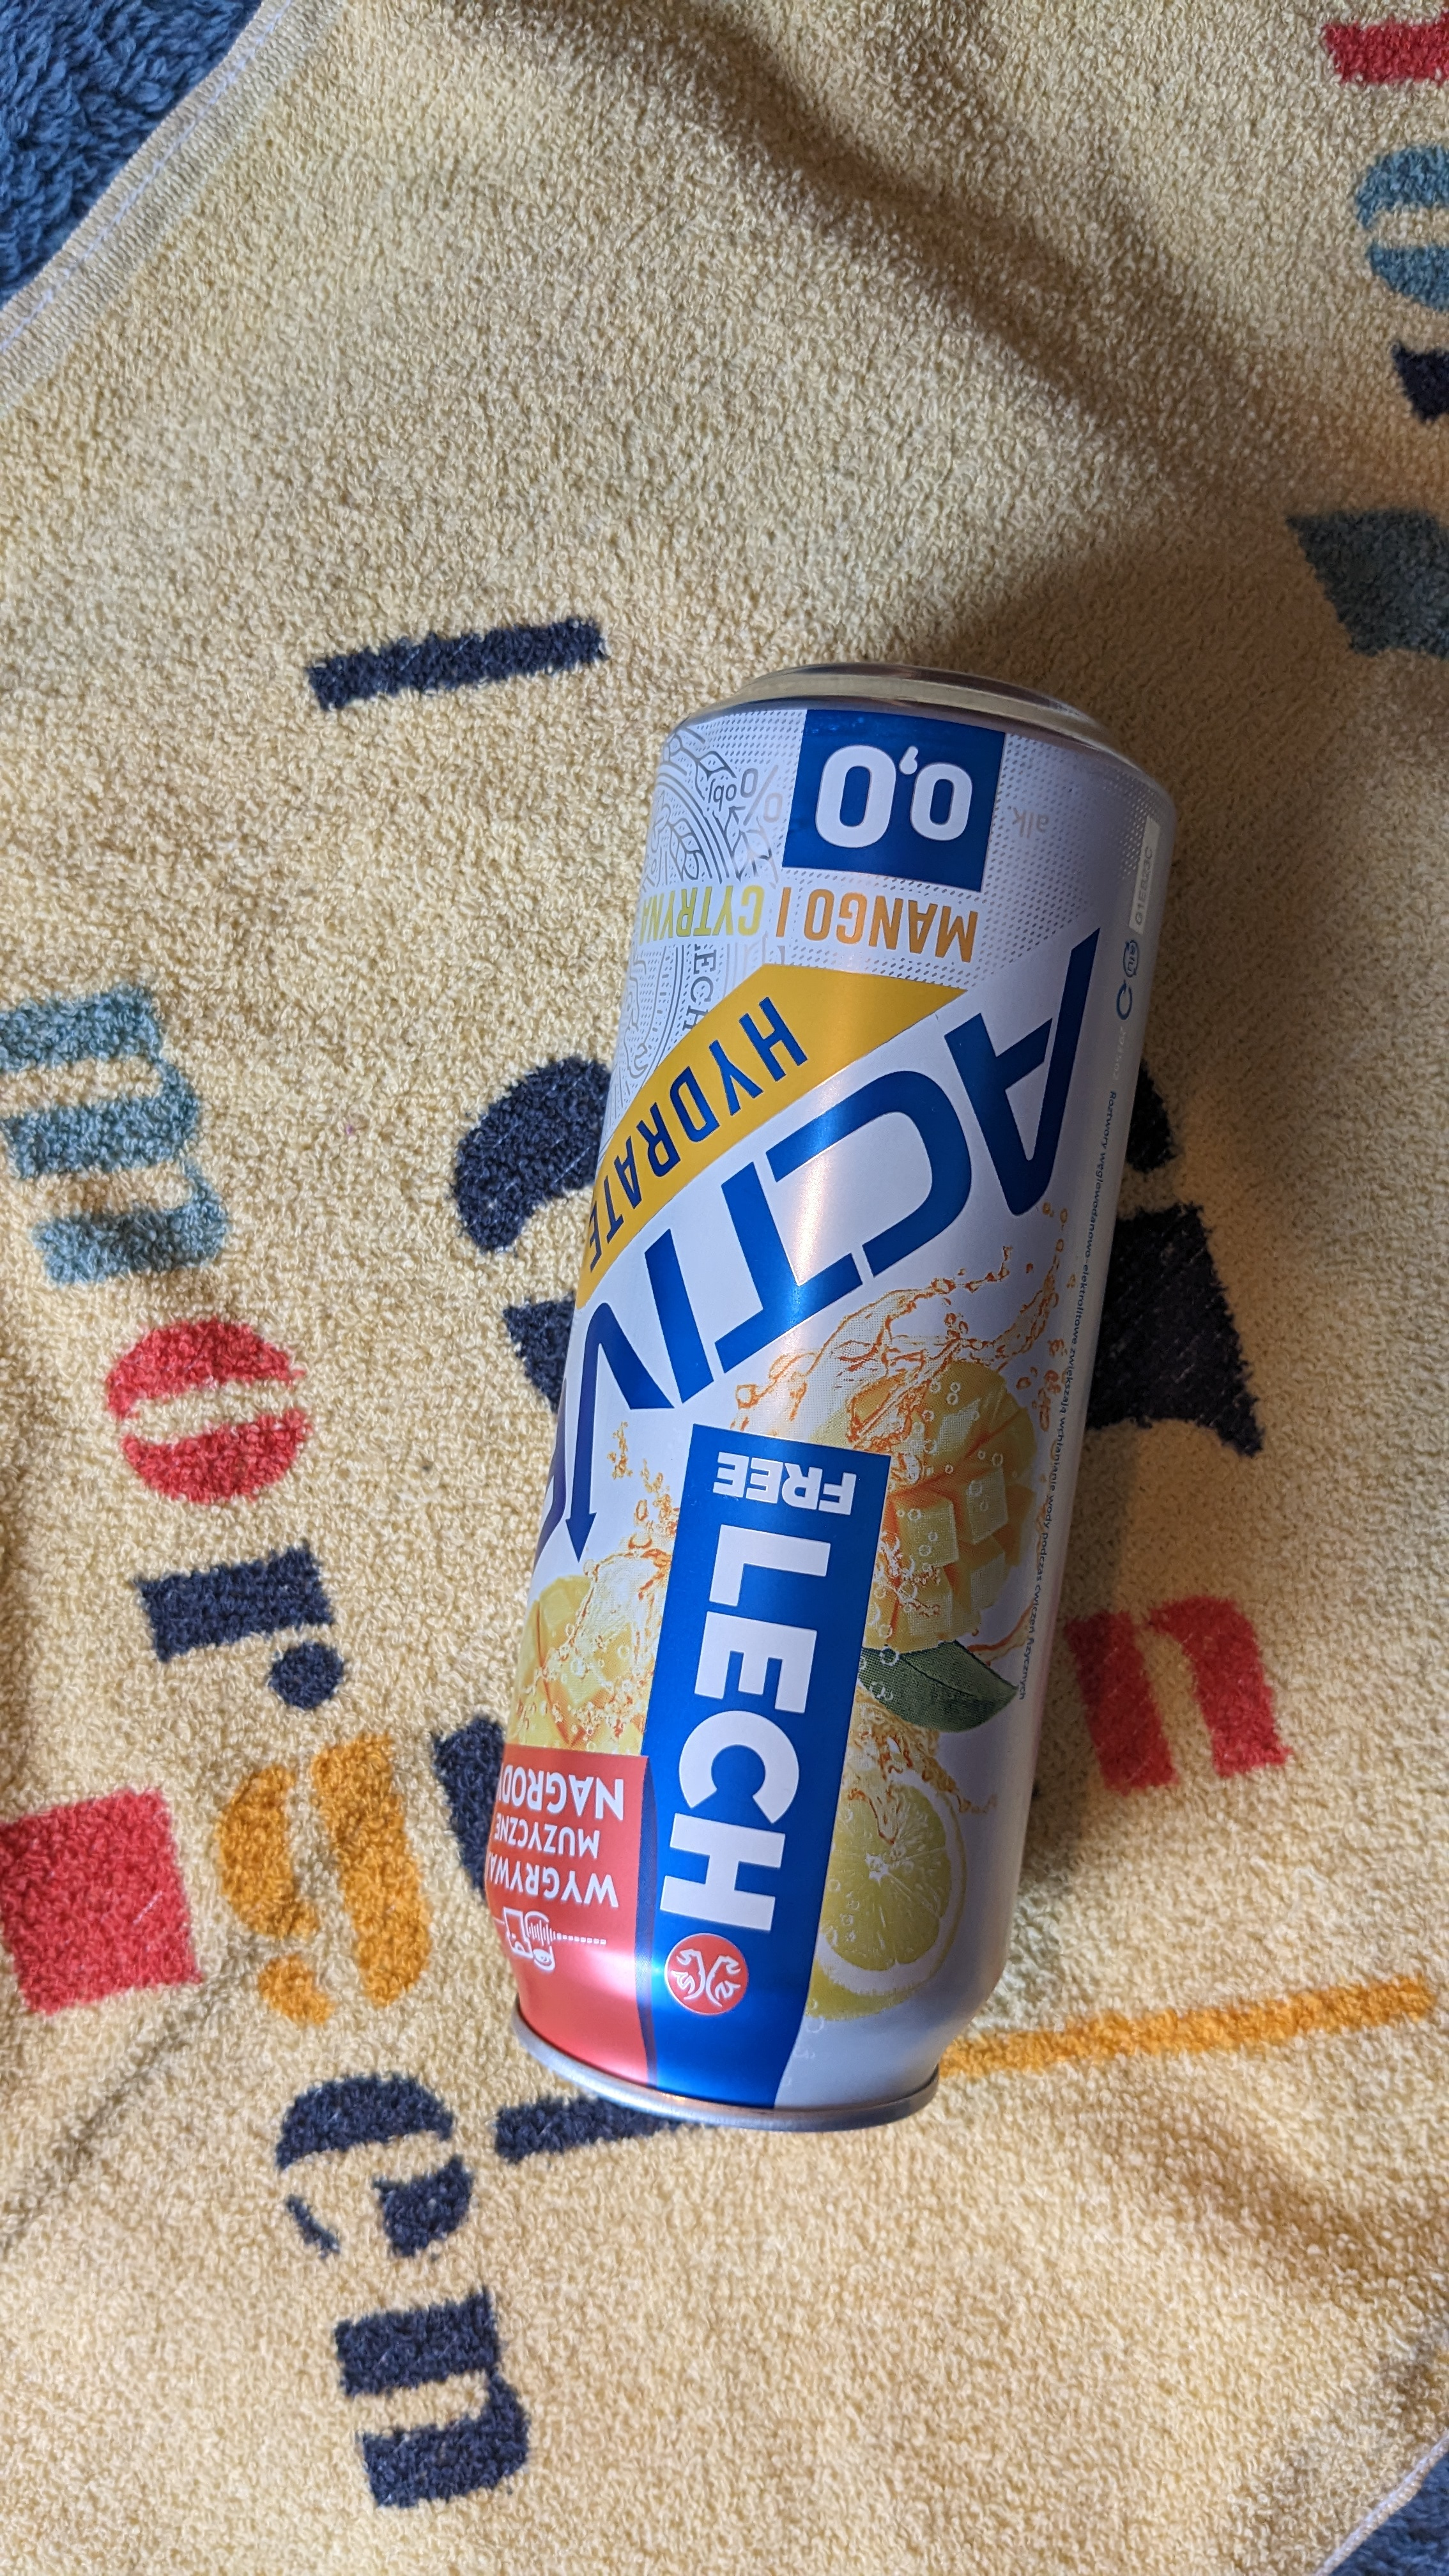lech-active: (469, 651, 1201, 2171)
